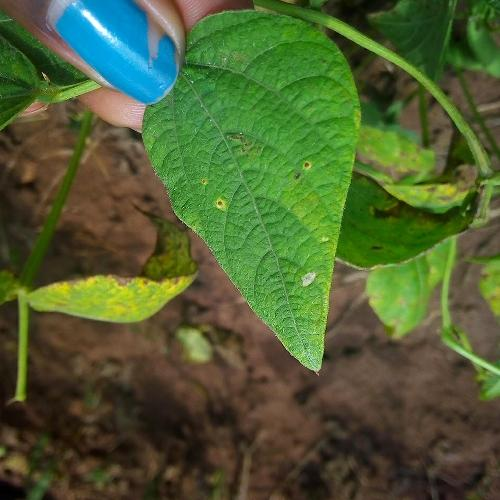embun tepung: (292, 252, 324, 302)
hawar: (206, 120, 264, 164)
mozaik: (170, 24, 342, 287)
